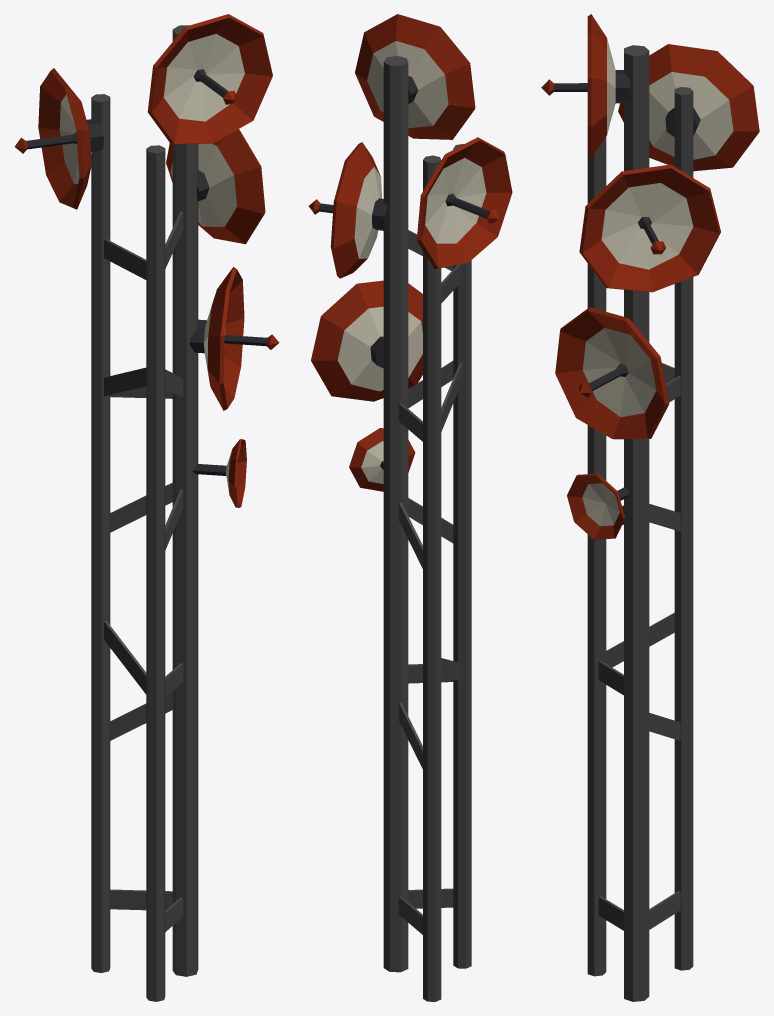
The model's file is LPWarPack_SateliteMastB.fbx.
The picture shows the model from 3 angles, left to right: view 1: azimuth 30°, elevation 25°; view 2: azimuth 150°, elevation 25°; view 3: azimuth 270°, elevation 25°; orthographic projection. The views are drawn at different scales.
Visible parts, largest first — view 1: SateliteMastB; view 2: SateliteMastB; view 3: SateliteMastB.
Boxes of the visible parts, x1=… form: SateliteMastB: x1=14, y1=14, x2=279, y2=1001; SateliteMastB: x1=308, y1=14, x2=512, y2=1001; SateliteMastB: x1=541, y1=14, x2=759, y2=1001.
Size of the model in its own units: 152 by 645 by 131.
